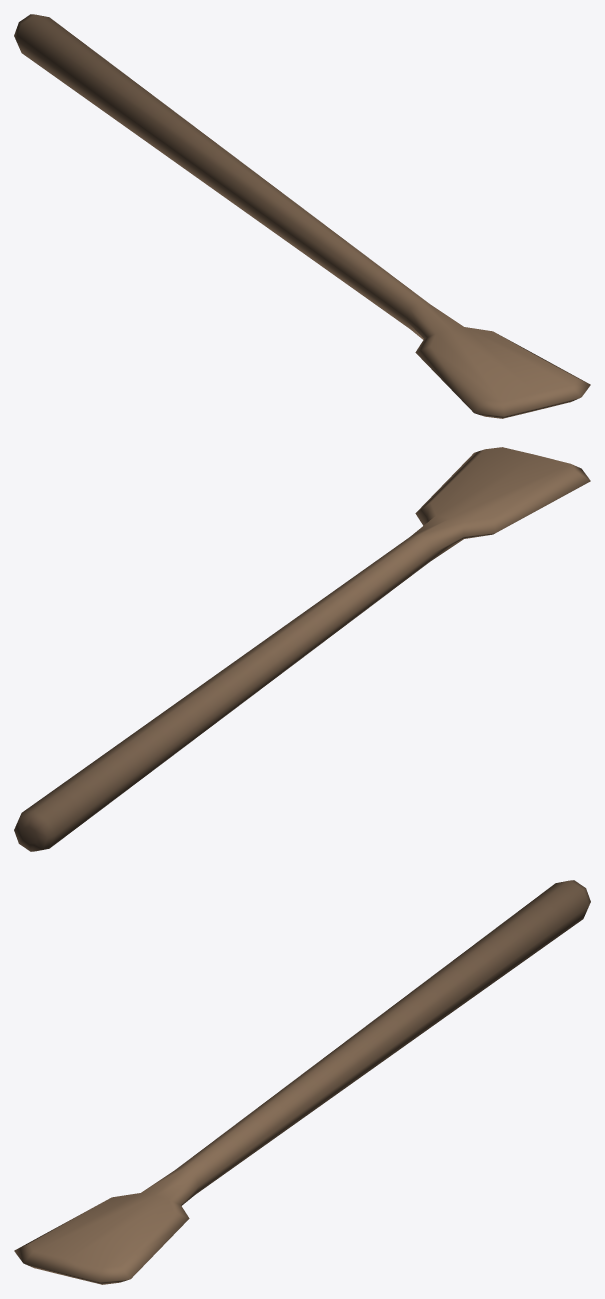
Rendered from BoatOar.fbx.
The picture shows the model from 3 angles, top to bottom: view 1: azimuth 30°, elevation 25°; view 2: azimuth 150°, elevation 25°; view 3: azimuth 330°, elevation 25°; orthographic projection.
Parts seen in each view (by area): view 1: BoatOar; view 2: BoatOar; view 3: BoatOar.
Boxes of the visible parts, x1=… form: BoatOar: x1=14, y1=14, x2=590, y2=418; BoatOar: x1=14, y1=447, x2=590, y2=851; BoatOar: x1=14, y1=880, x2=590, y2=1284.
Bounding box in the file's own units: 377 × 127 × 2876.
